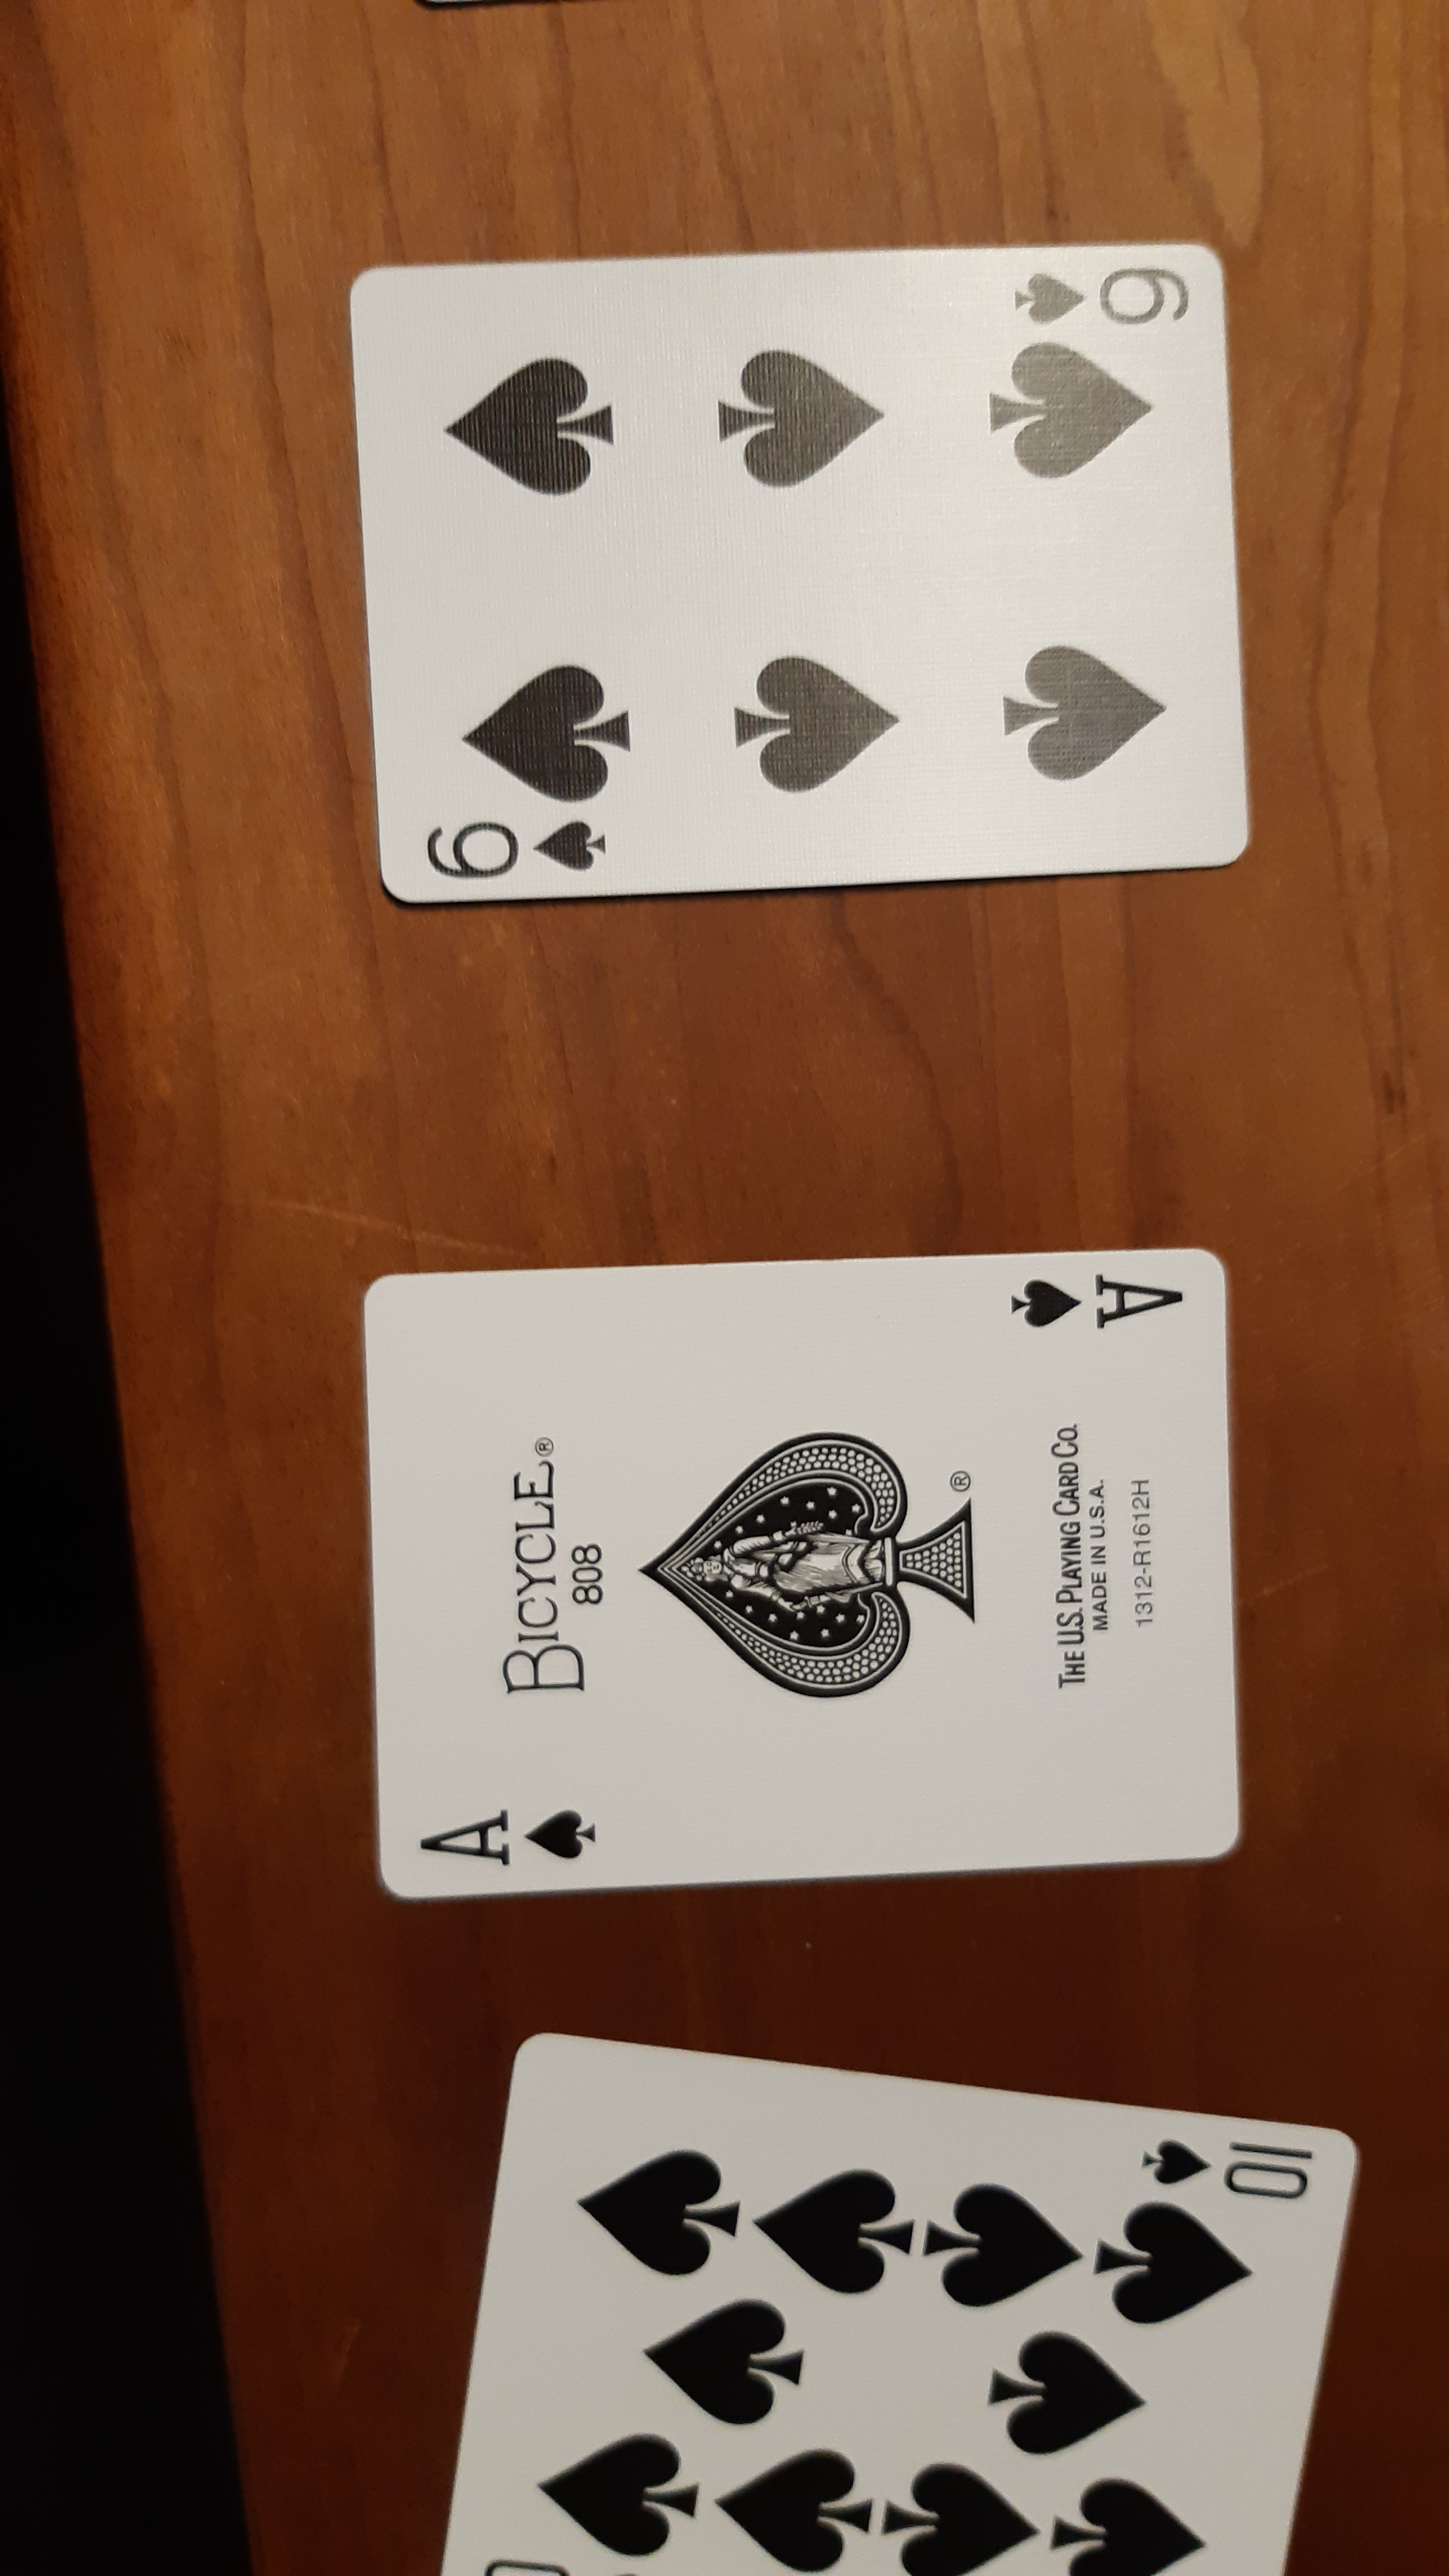Black_Spade_10: (1127, 2112, 1320, 2213)
Black_Spade_Ace: (402, 257, 1210, 892), (987, 1254, 1194, 1341), (414, 1787, 605, 1874)
